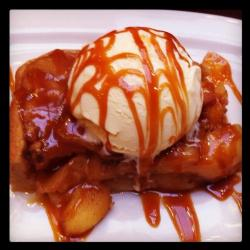apple_pie: (15, 50, 237, 214)
icecream: (71, 26, 200, 162)
